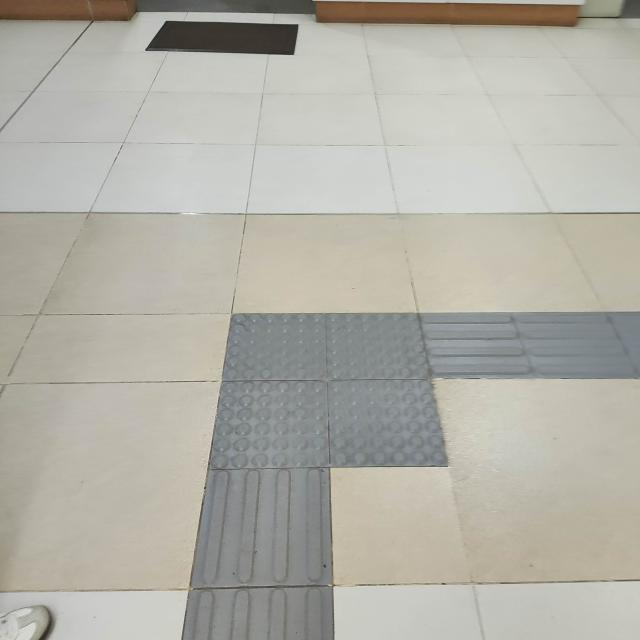kanan: (147, 253, 640, 514)
